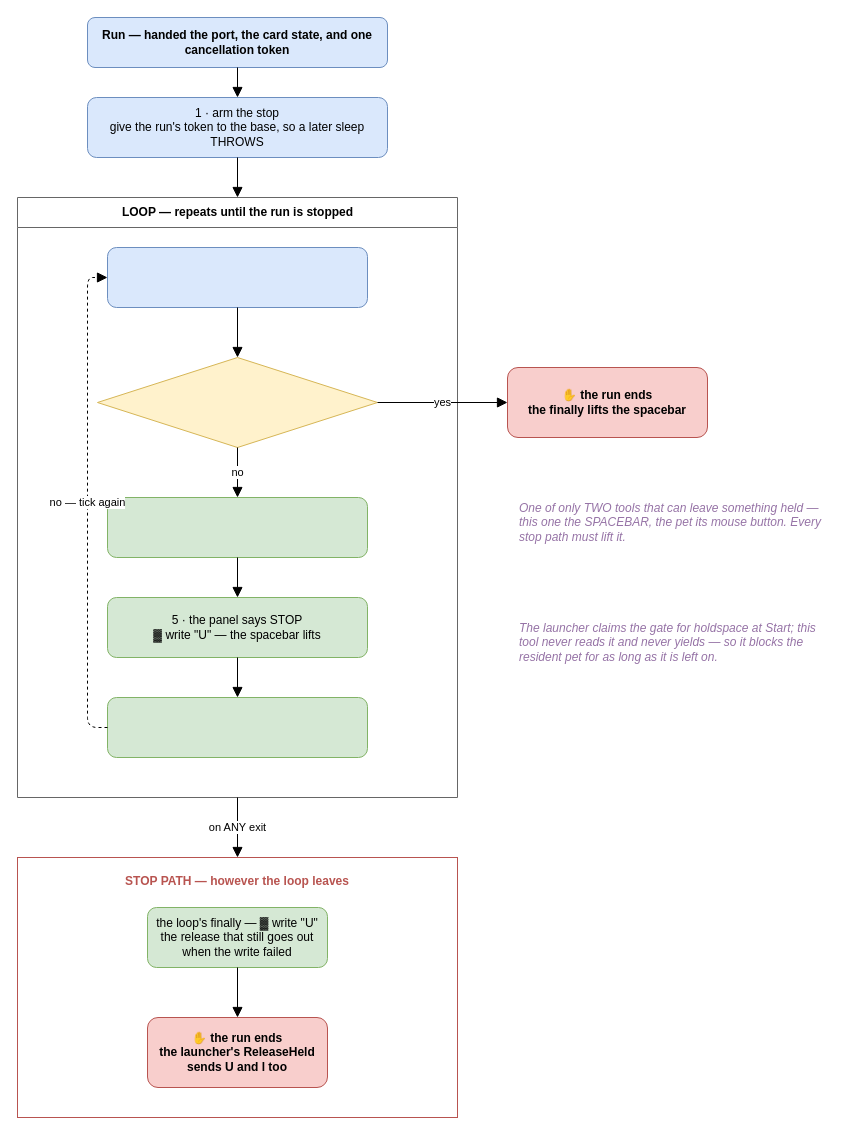
This 855x1135 diagram has some shape labels left out. Here are the shapes that lost their labels. From the top down, the box of each, then its label:
(106, 246, 368, 308): 2 · tick — sleep ~50 ms a QUIT press is seen here
(96, 356, 378, 448): 3 · stopped?
(106, 496, 368, 558): 4 · the panel says START ▓ write "P" — the spacebar goes DOWN
(106, 696, 368, 758): 6 · F12 edge — the TOGGLE on ▓ "P" (down) · off ▓ "U" (lifted)
